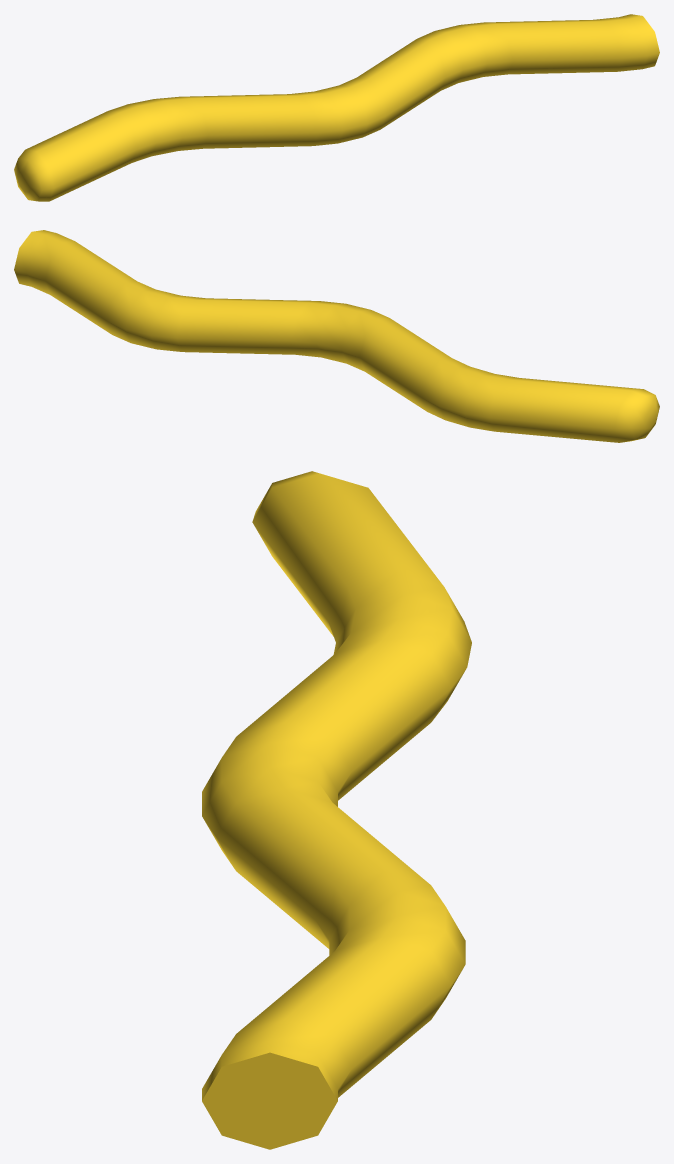
Rendered from Souse_half.001.fbx.
3 views of the same model, one above another, from view 1: azimuth 30°, elevation 25°; view 2: azimuth 150°, elevation 25°; view 3: azimuth 270°, elevation 25° (orthographic). The views are drawn at different scales.
Visible parts, largest first — view 1: Souse_half.001; view 2: Souse_half.001; view 3: Souse_half.001.
Part boxes in pixels (left/top/right/bottom): Souse_half.001: left=14, top=14, right=659, bottom=201; Souse_half.001: left=14, top=230, right=659, bottom=442; Souse_half.001: left=202, top=471, right=471, bottom=1149.
Bounding box in the file's own units: 76.28 × 14.66 × 5.82.
